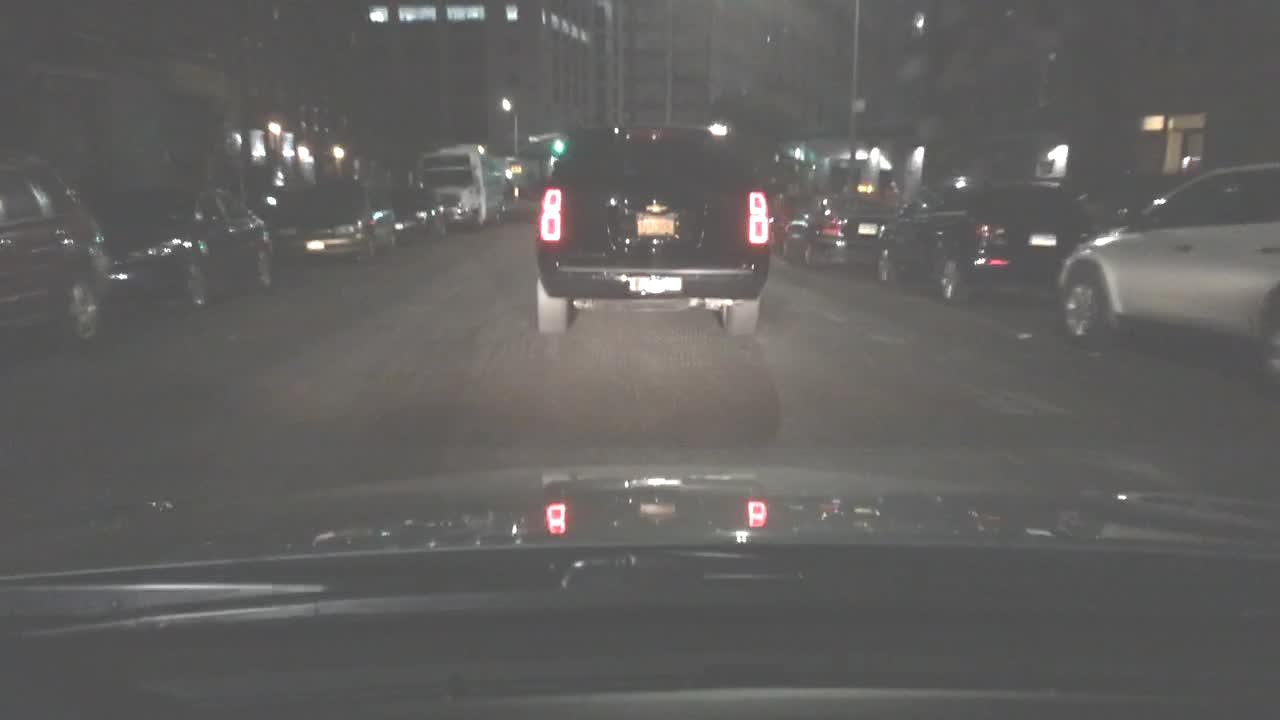chevrolet: (643, 199, 673, 214)
